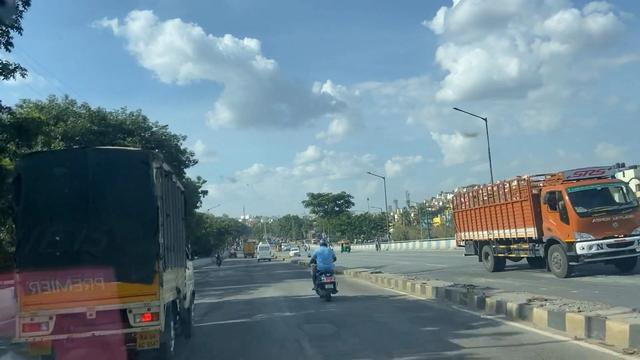HMV: (10, 143, 203, 357)
LMV: (313, 238, 346, 304)
